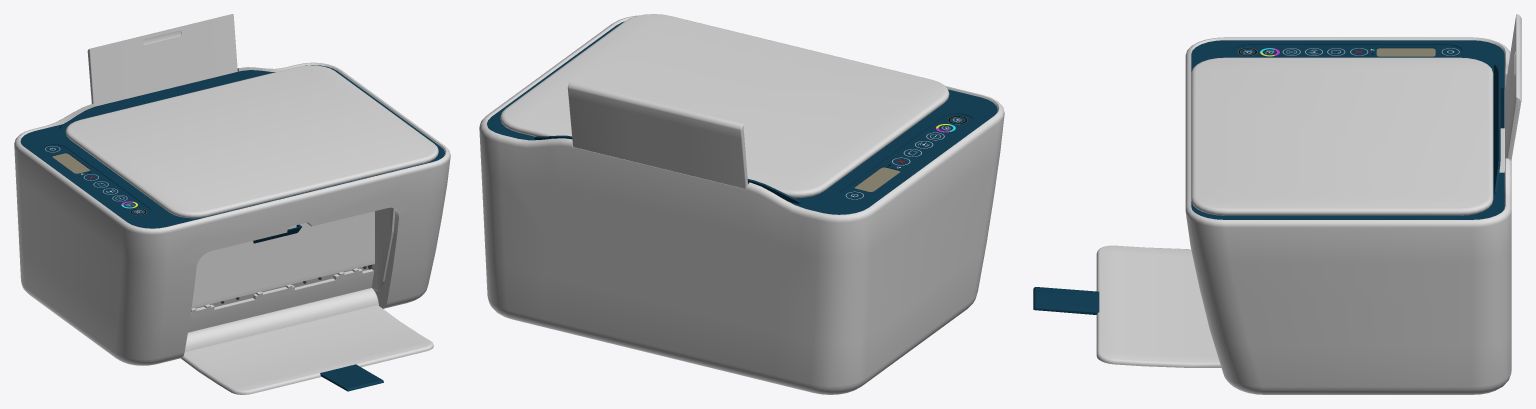
Rendered from printer-scanner.glb.
3 views of the same model, side by side, from view 1: azimuth 30°, elevation 25°; view 2: azimuth 150°, elevation 25°; view 3: azimuth 270°, elevation 25° (orthographic). The views are drawn at different scales.
Visible parts, largest first — view 1: Object_6, Object_5, Object_4, Object_3, Object_2; view 2: Object_6, Object_5, Object_2, Object_3; view 3: Object_6, Object_5, Object_3, Object_2.
Part boxes in pixels (x1,y1,x2,y2): Object_6: [14, 14, 450, 394]; Object_5: [20, 65, 444, 391]; Object_4: [195, 264, 371, 308]; Object_3: [45, 146, 146, 215]; Object_2: [52, 153, 90, 173]; Object_6: [479, 14, 1004, 394]; Object_5: [487, 21, 997, 214]; Object_2: [854, 167, 900, 191]; Object_3: [845, 116, 967, 199]; Object_6: [1096, 14, 1521, 394]; Object_5: [1033, 40, 1504, 314]; Object_3: [1238, 48, 1459, 56]; Object_2: [1376, 48, 1435, 56].
Size of the model in its own units: 0.9215 by 0.5875 by 1.02.
Materials: 5 (1 with a texture image).
